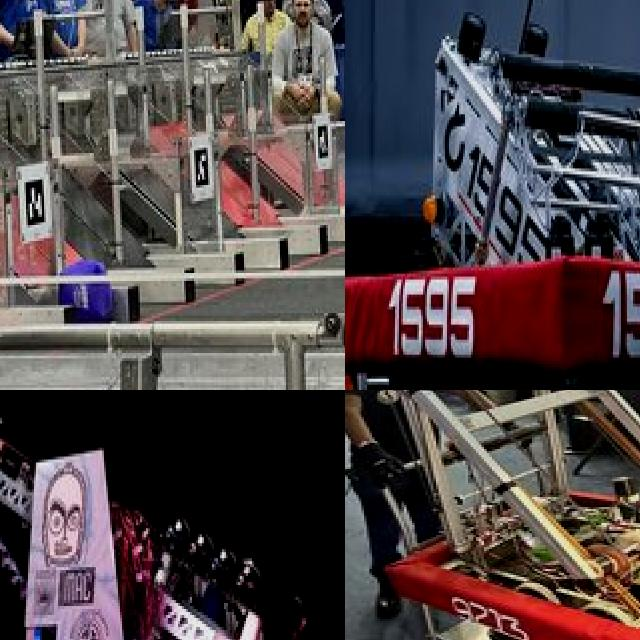FRC-Robots: (380, 0, 640, 390), (0, 390, 345, 640), (362, 390, 640, 640)
